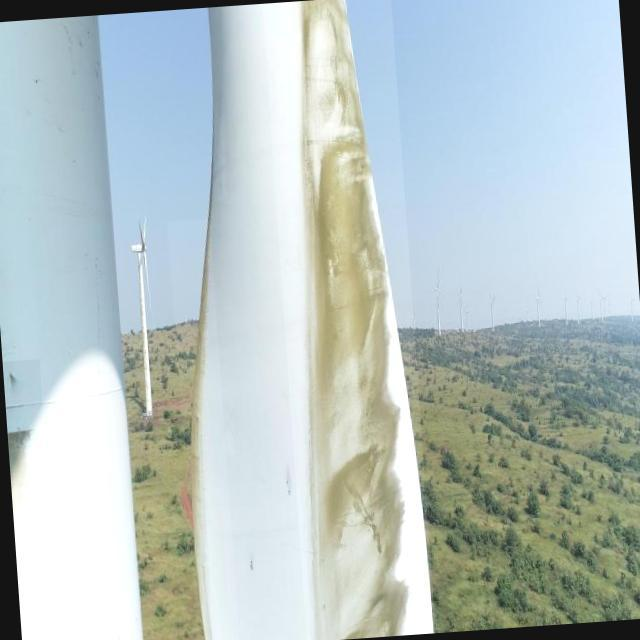Dirt: (300, 0, 412, 640)
